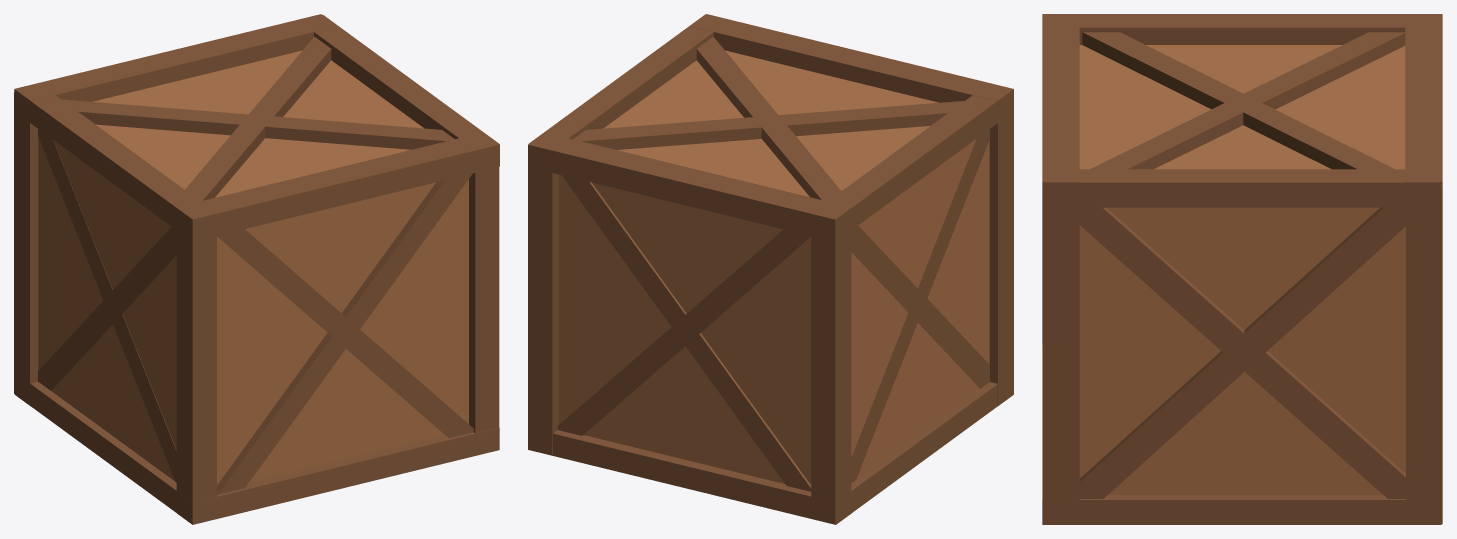
The model's file is Caja2.fbx.
3 views of the same model, side by side, from view 1: azimuth 30°, elevation 25°; view 2: azimuth 150°, elevation 25°; view 3: azimuth 270°, elevation 25° (orthographic). The views are drawn at different scales.
Visible parts, largest first — view 1: Caja, Cube.168, Cube.166, Cube.170, Cube.174, Cube.169, Cube.167, Cube.187, Cube.172, Cube.171, Cube.178, Cube.186 (+4 smaller); view 2: Caja, Cube.172, Cube.174, Cube.168, Cube.173, Cube.186, Cube.176, Cube.175, Cube.177, Cube.178, Cube.166, Cube.182 (+4 smaller); view 3: Caja, Cube.182, Cube.185, Cube.184, Cube.173, Cube.167, Cube.183, Cube.178, Cube.186, Cube.187, Cube.168, Cube.174.
Boxes of the visible parts, box(x1,y1,x2,y2) form: Caja: box(38, 50, 468, 484); Cube.168: box(176, 132, 499, 241); Cube.166: box(176, 230, 216, 502); Cube.170: box(217, 173, 472, 494); Cube.174: box(14, 14, 337, 122); Cube.169: box(176, 427, 499, 524); Cube.167: box(469, 167, 499, 433); Cube.187: box(61, 99, 454, 149); Cube.172: box(14, 92, 38, 404); Cube.171: box(217, 229, 473, 438); Cube.178: box(31, 95, 199, 229); Cube.186: box(185, 36, 331, 201); Caja: box(559, 50, 989, 484); Cube.172: box(811, 211, 851, 524); Cube.174: box(528, 132, 851, 235); Cube.168: box(690, 14, 1013, 122); Cube.173: box(528, 148, 558, 455); Cube.186: box(573, 101, 964, 149); Cube.176: box(562, 175, 811, 491); Cube.175: box(552, 430, 851, 524); Cube.177: box(557, 229, 811, 435); Cube.178: box(828, 95, 997, 229); Cube.166: box(989, 111, 1013, 383); Cube.182: box(529, 14, 713, 143); Caja: box(1079, 45, 1405, 495); Cube.182: box(1043, 169, 1439, 207); Cube.185: box(1079, 207, 1405, 498); Cube.184: box(1079, 207, 1405, 498); Cube.173: box(1406, 185, 1442, 524); Cube.167: box(1043, 185, 1079, 524); Cube.183: box(1043, 495, 1439, 524); Cube.178: box(1079, 14, 1405, 44); Cube.186: box(1082, 32, 1394, 169); Cube.187: box(1090, 32, 1405, 169); Cube.168: box(1042, 14, 1079, 207); Cube.174: box(1405, 14, 1442, 185).
Bounding box in the file's own units: 80.77 × 76.58 × 81.1.
